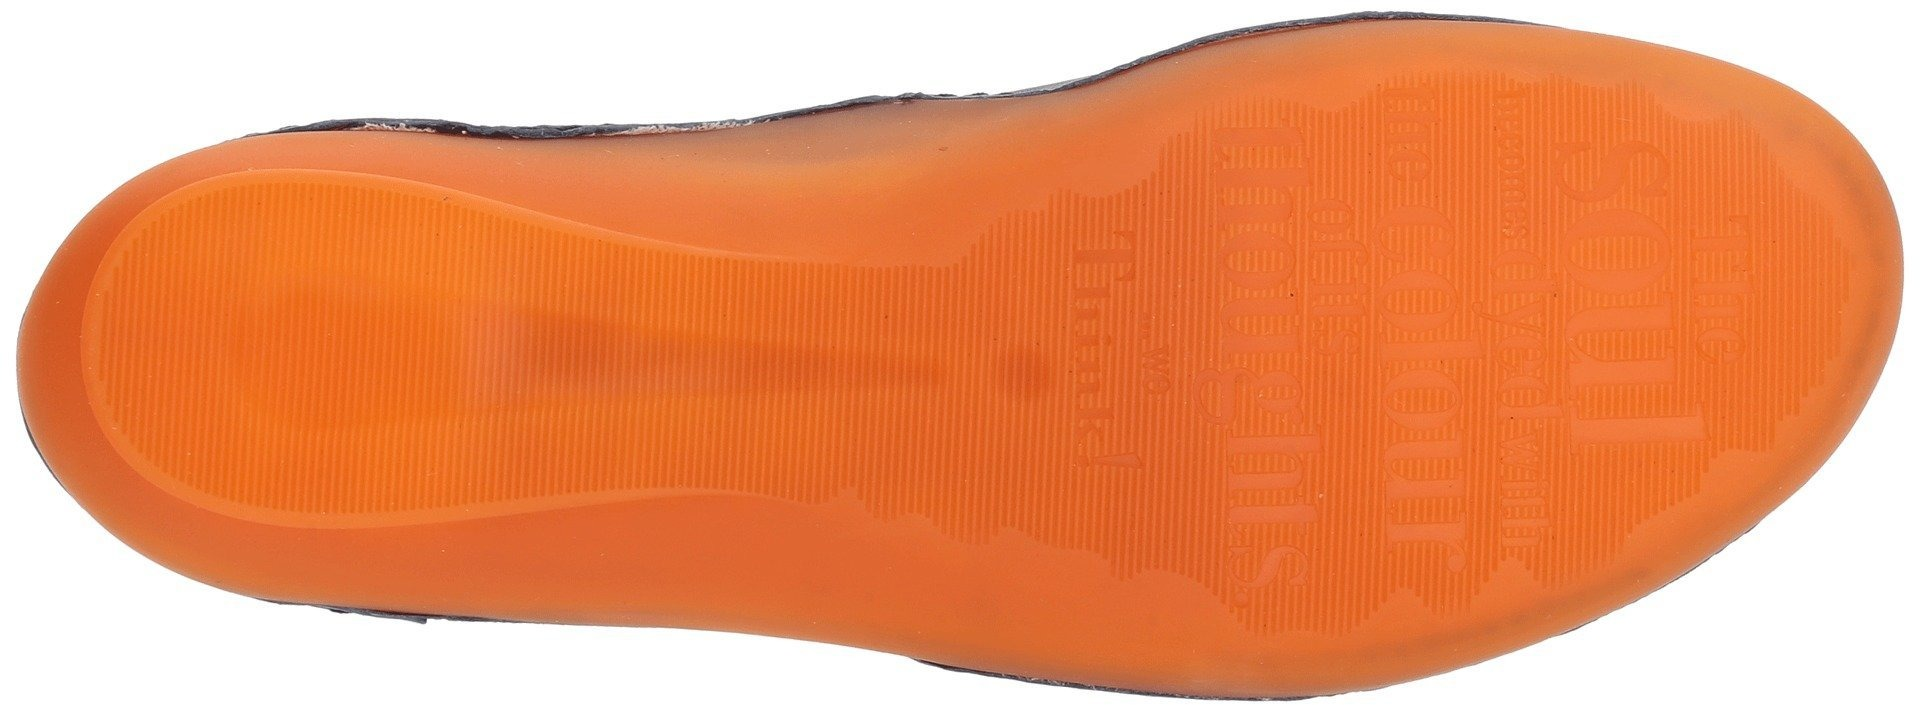circle: (1467, 92, 1771, 482), (1188, 121, 1476, 395), (989, 215, 1163, 496)
line: (1467, 92, 1771, 482), (1188, 121, 1476, 395), (142, 226, 419, 488), (1169, 414, 1471, 635), (429, 240, 649, 482), (680, 266, 902, 485), (989, 215, 1163, 496)
text: (1467, 92, 1771, 482), (1188, 121, 1476, 395), (1169, 414, 1471, 635), (989, 215, 1163, 496), (1382, 82, 1598, 295), (1201, 293, 1412, 485), (1194, 114, 1381, 289), (1417, 304, 1576, 502), (1571, 299, 1733, 457), (1386, 492, 1529, 623), (1060, 312, 1191, 446), (1224, 492, 1342, 597), (1063, 219, 1142, 302)
